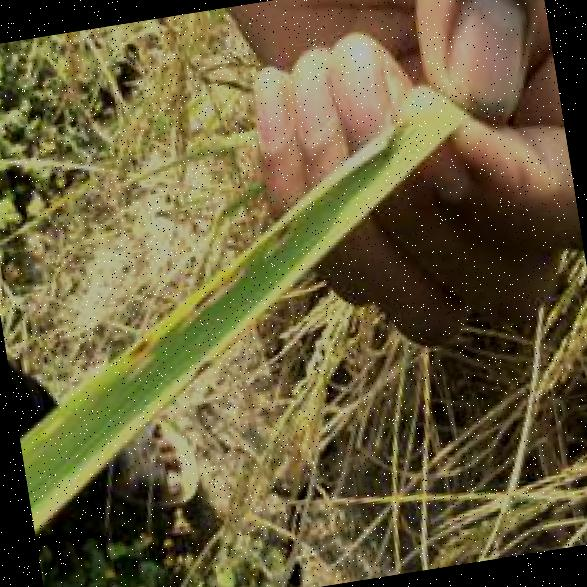Brown_Spot: (174, 264, 248, 306), (257, 206, 298, 243), (119, 327, 151, 356)
